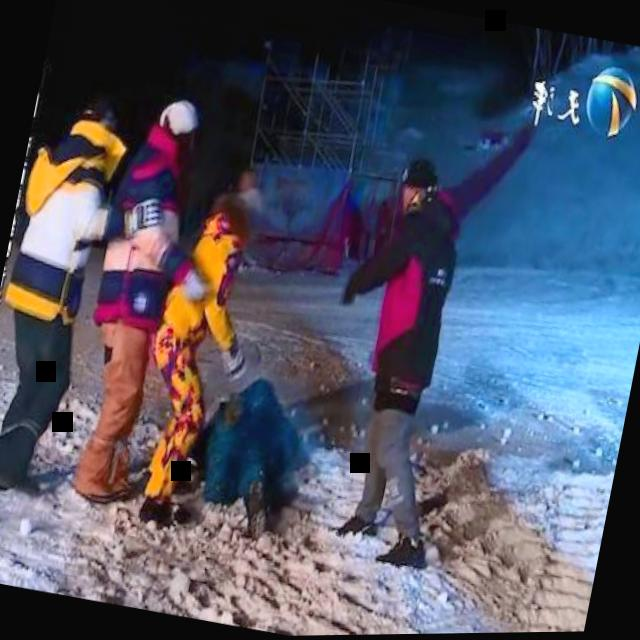Fall-Detected: (166, 343, 348, 550)
